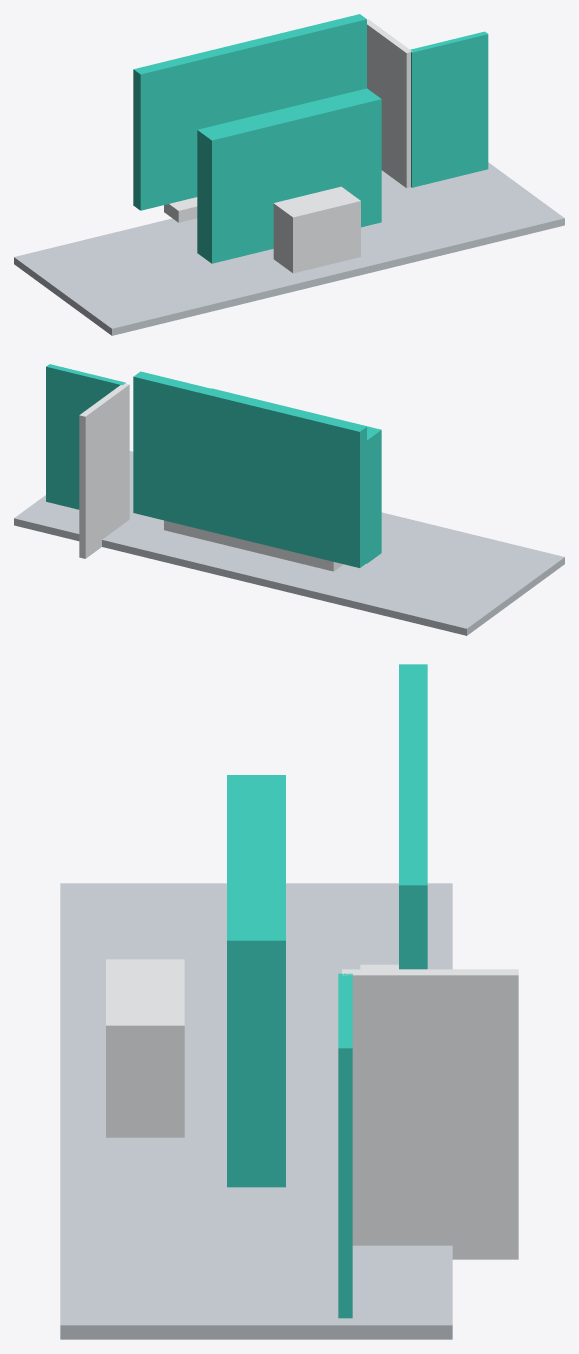
The picture shows the model from 3 angles, top to bottom: view 1: azimuth 30°, elevation 25°; view 2: azimuth 150°, elevation 25°; view 3: azimuth 270°, elevation 25°; orthographic projection. The views are drawn at different scales.
Parts seen in each view (by area): view 1: Exhibition Booth Concept; view 2: Exhibition Booth Concept; view 3: Exhibition Booth Concept.
Part boxes in pixels (x1,y1,x2,y2): Exhibition Booth Concept: [14, 14, 564, 335]; Exhibition Booth Concept: [14, 364, 564, 635]; Exhibition Booth Concept: [60, 664, 518, 1339].
Bounding box in the file's own units: 8 × 2.9 × 3.51.
